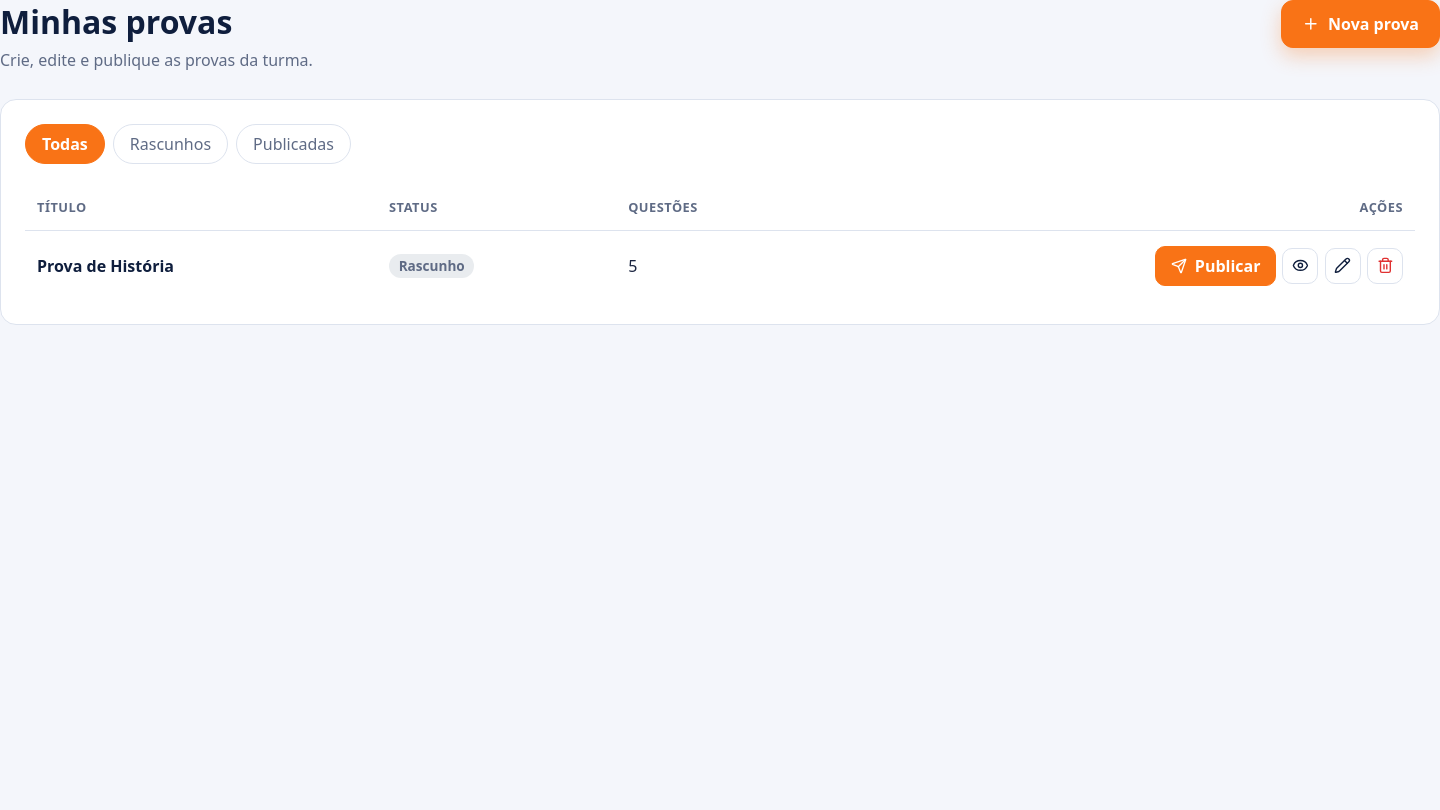
Test case: ExamListView › shows the API error when deletion is refused
Click the button with class "danger". click: (1385, 266)
box: [1367, 248, 1403, 284]
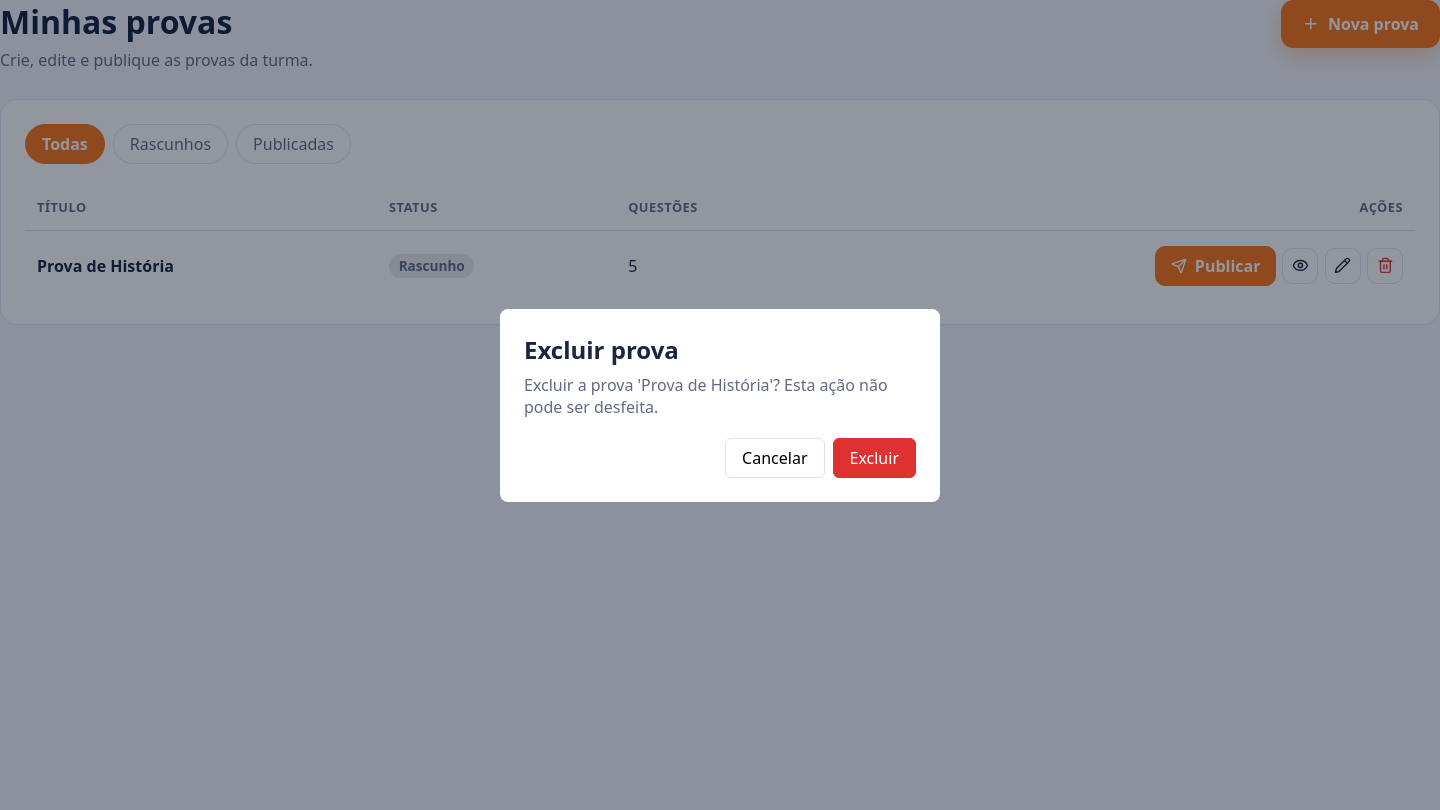
Click the button with class "dialog__confirm". click: (874, 458)
box: [832, 438, 916, 478]
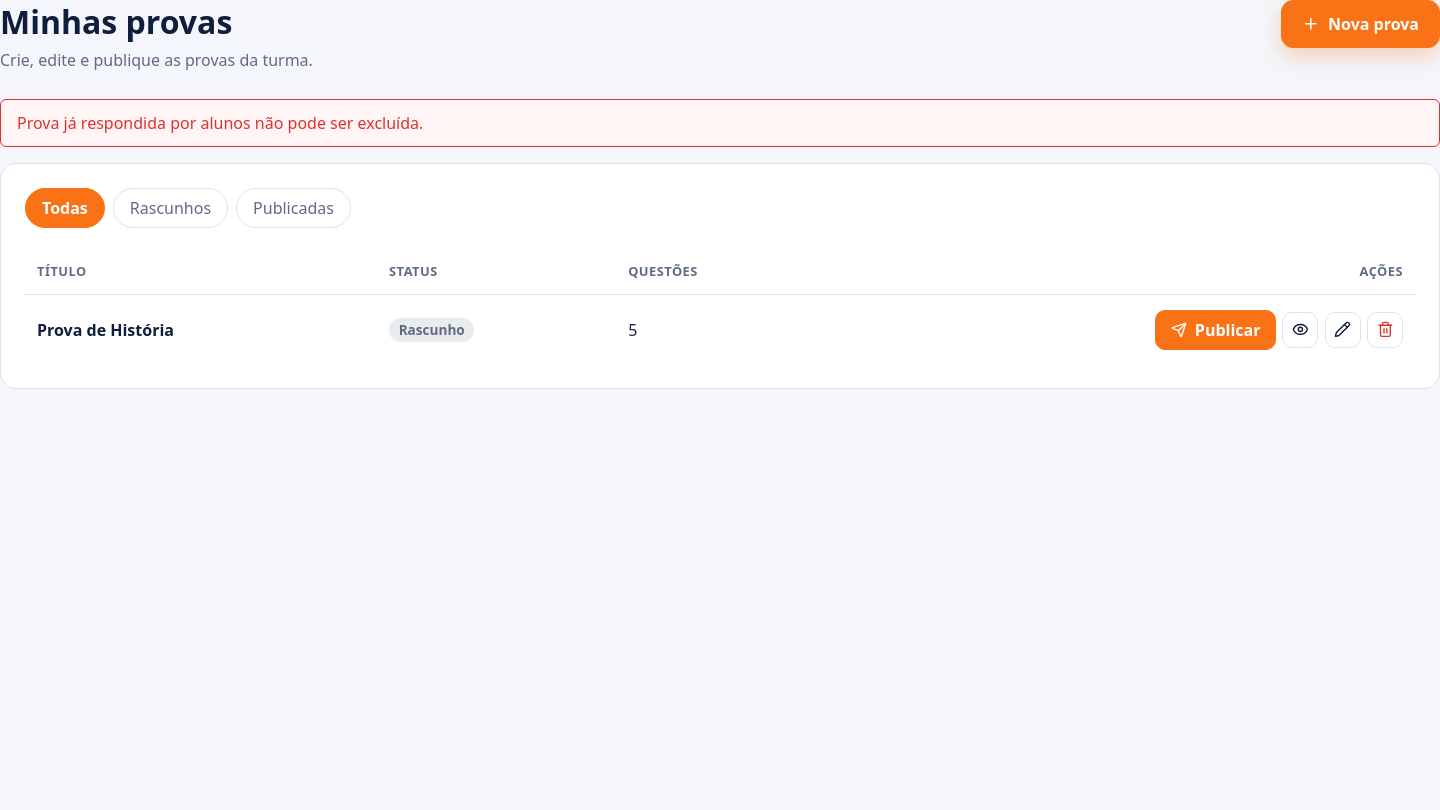
Now the text "Prova já respondida por alunos não pode ser excluída." is shown, box [0, 99, 1439, 147]
